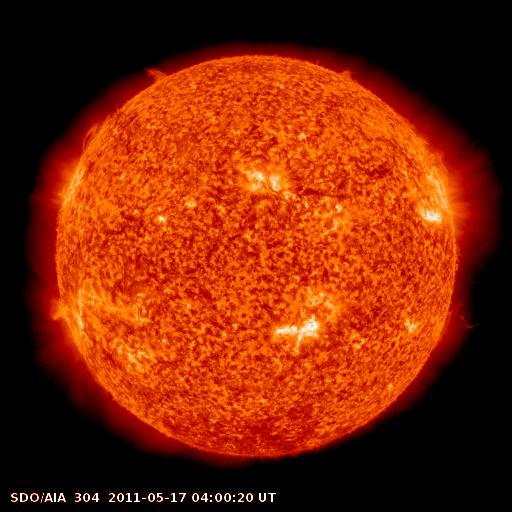prominence: (431, 294, 481, 342), (39, 287, 78, 330), (76, 108, 113, 153), (331, 61, 365, 89), (140, 62, 172, 91)
